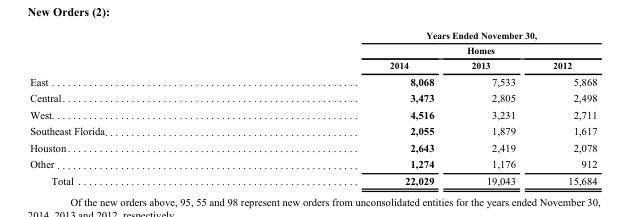table: (29, 29, 596, 186)
table column: (29, 29, 247, 186), (247, 29, 452, 186), (452, 29, 533, 186), (533, 29, 596, 186)
table column header: (29, 29, 596, 72)
table row: (29, 29, 596, 57), (29, 72, 596, 89), (29, 89, 596, 106), (29, 122, 596, 139), (29, 155, 596, 172), (29, 106, 596, 122), (29, 139, 596, 155), (29, 57, 596, 72), (29, 172, 596, 186)
table spanning cell: (247, 29, 596, 57)
